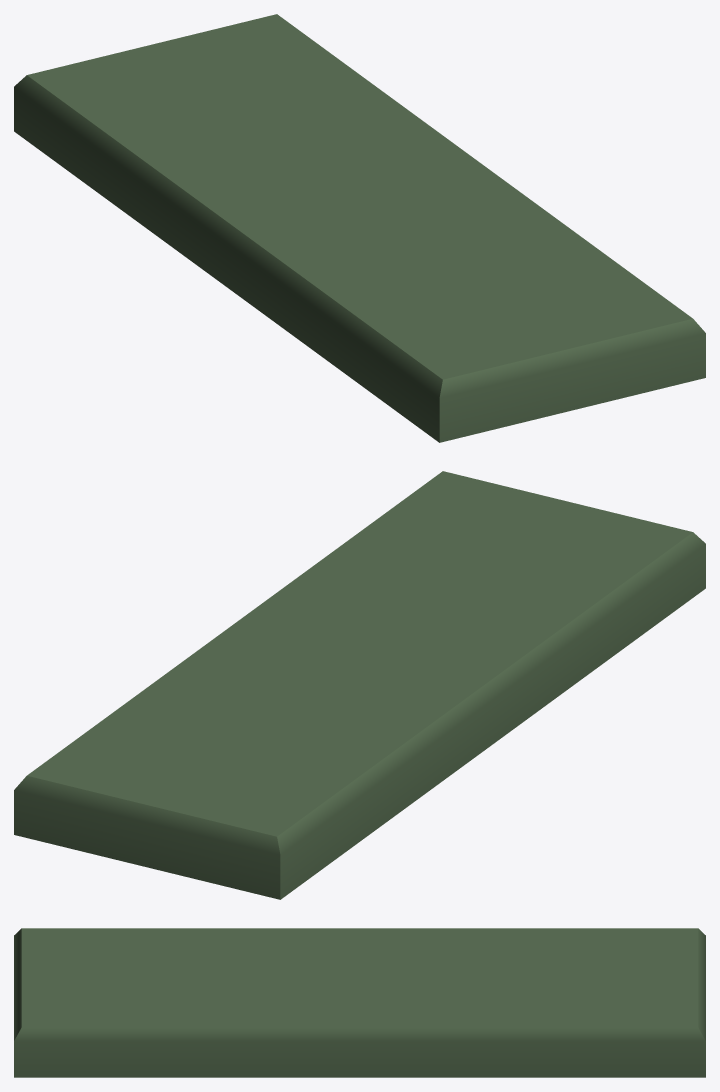
File: Checker_Sp_07.fbx
The picture shows the model from 3 angles, top to bottom: view 1: azimuth 30°, elevation 25°; view 2: azimuth 150°, elevation 25°; view 3: azimuth 270°, elevation 25°; orthographic projection. The views are drawn at different scales.
Visible parts, largest first — view 1: Checker_Sp_07; view 2: Checker_Sp_07; view 3: Checker_Sp_07.
Boxes of the visible parts, x1,y1,x2,y2 form: Checker_Sp_07: [14, 14, 705, 442]; Checker_Sp_07: [14, 471, 705, 899]; Checker_Sp_07: [14, 928, 705, 1077].
Bounding box in the file's own units: 2.88 × 0.5958 × 7.95.
